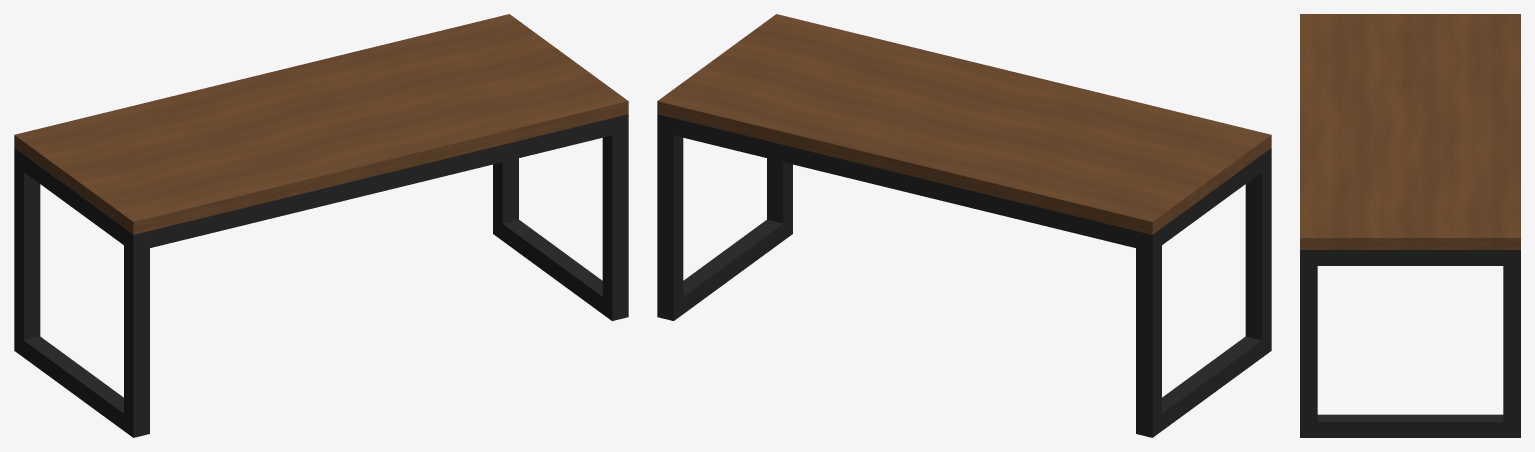
File: mesa-living-nord-nogal-negro-4cm.glb
The picture shows the model from 3 angles, left to right: view 1: azimuth 30°, elevation 25°; view 2: azimuth 150°, elevation 25°; view 3: azimuth 270°, elevation 25°; orthographic projection. The views are drawn at different scales.
Parts seen in each view (by area): view 1: Tapa de madera maciza 120 x 50 cm, Pata recta de hierro 4 x 4 cm (×4), Larguero longitudinal superior recto, Travesaño inferior recto (×2), Travesaño superior recto; view 2: Tapa de madera maciza 120 x 50 cm, Pata recta de hierro 4 x 4 cm (×4), Larguero longitudinal superior recto, Travesaño inferior recto (×2), Travesaño superior recto; view 3: Tapa de madera maciza 120 x 50 cm, Pata recta de hierro 4 x 4 cm (×2), Travesaño inferior recto, Travesaño superior recto.
Part boxes in pixels (x1,y1,x2,y2): Tapa de madera maciza 120 x 50 cm: [14, 14, 628, 234]; Pata recta de hierro 4 x 4 cm (×4): [14, 114, 628, 437]; Larguero longitudinal superior recto: [150, 118, 612, 247]; Travesaño inferior recto (×2): [19, 219, 602, 430]; Travesaño superior recto: [19, 153, 128, 247]; Tapa de madera maciza 120 x 50 cm: [657, 14, 1271, 234]; Pata recta de hierro 4 x 4 cm (×4): [657, 114, 1271, 437]; Larguero longitudinal superior recto: [673, 118, 1135, 247]; Travesaño inferior recto (×2): [679, 219, 1266, 430]; Travesaño superior recto: [1162, 154, 1266, 244]; Tapa de madera maciza 120 x 50 cm: [1300, 14, 1520, 249]; Pata recta de hierro 4 x 4 cm (×2): [1300, 250, 1520, 437]; Travesaño inferior recto: [1309, 414, 1511, 437]; Travesaño superior recto: [1309, 250, 1511, 265].
Size of the model in its own units: 1.2 by 0.5 by 0.5.
2 materials, 1 textured.
